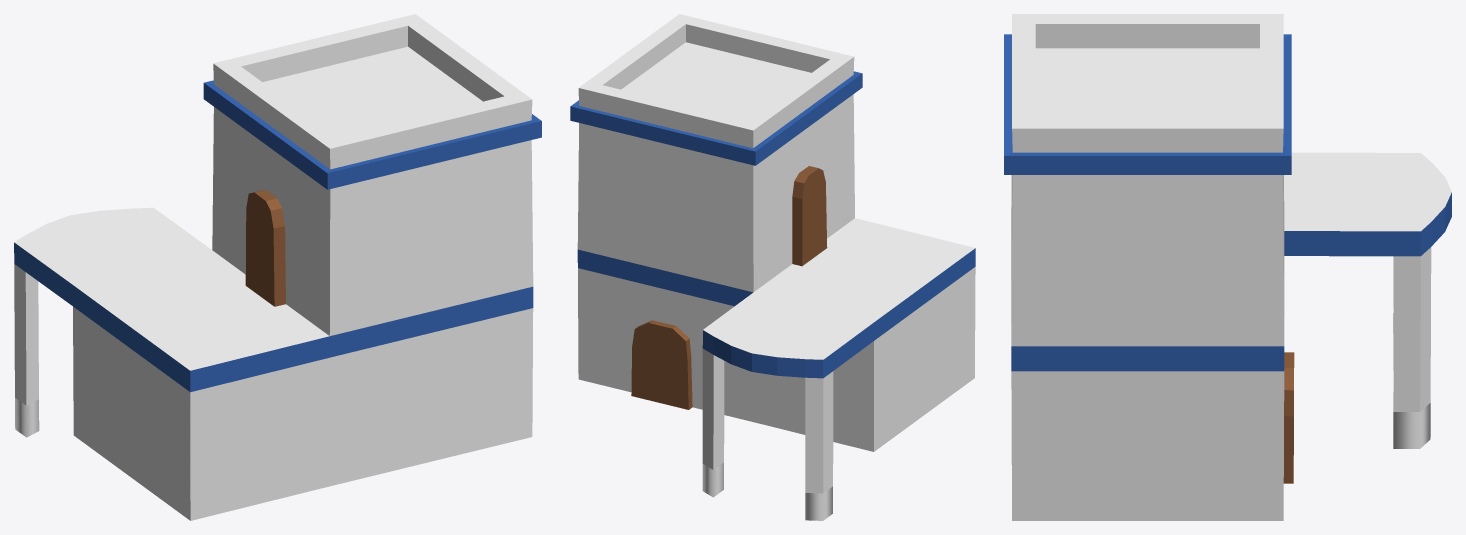
Rendered from house_04.fbx.
The picture shows the model from 3 angles, left to right: view 1: azimuth 30°, elevation 25°; view 2: azimuth 150°, elevation 25°; view 3: azimuth 270°, elevation 25°; orthographic projection. The views are drawn at different scales.
Visible parts, largest first — view 1: house_04; view 2: house_04; view 3: house_04.
Boxes of the visible parts, left/top/right/bottom form: house_04: left=14, top=14, right=541, bottom=520; house_04: left=570, top=14, right=975, bottom=520; house_04: left=1004, top=14, right=1451, bottom=520.
Bounding box in the file's own units: 760 × 782 × 728.
1 material, 1 textured.
